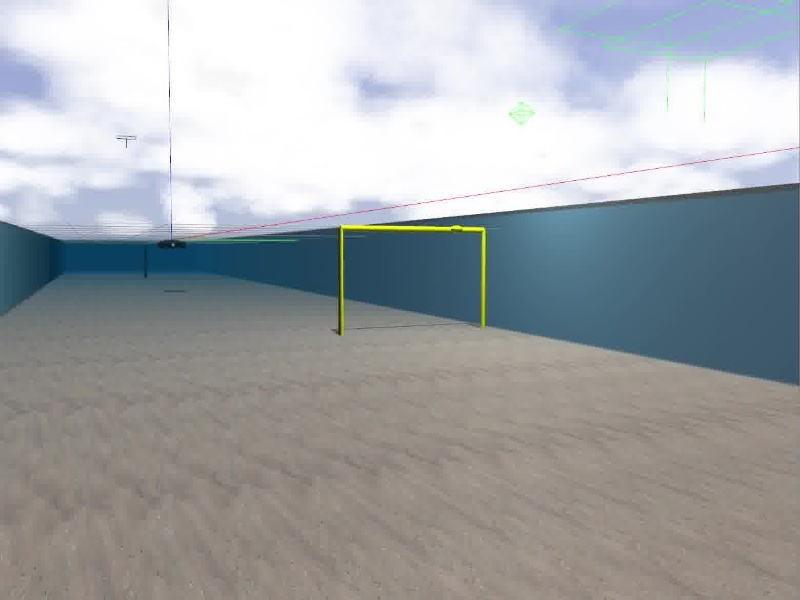gate: (340, 223, 486, 336)
